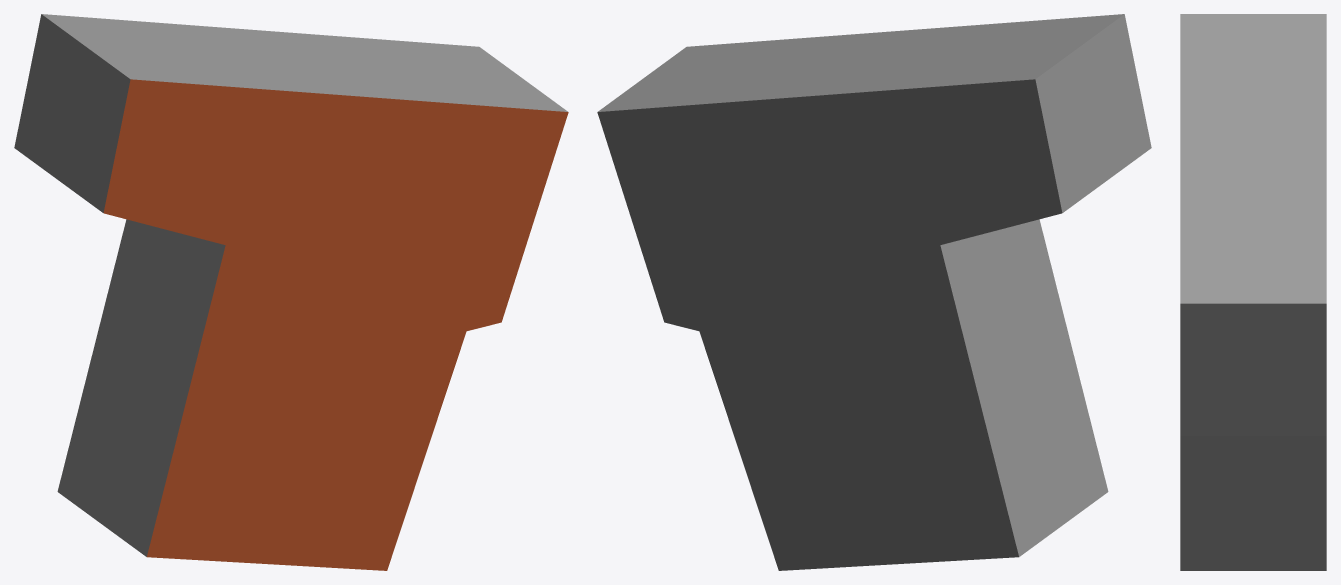
File: construction_5479_assumed_A_Casa_h6m.obj
3 views of the same model, side by side, from view 1: azimuth 30°, elevation 25°; view 2: azimuth 150°, elevation 25°; view 3: azimuth 270°, elevation 25° (orthographic). The views are drawn at different scales.
Visible parts, largest first — view 1: construction_5479_assumed_A_Casa; view 2: construction_5479_assumed_A_Casa; view 3: construction_5479_assumed_A_Casa.
Boxes of the visible parts, bbox=[...] form: construction_5479_assumed_A_Casa: bbox=[14, 14, 568, 570]; construction_5479_assumed_A_Casa: bbox=[597, 14, 1151, 570]; construction_5479_assumed_A_Casa: bbox=[1180, 14, 1326, 570].
Size of the model in its own units: 18.05 by 20.56 by 6.
